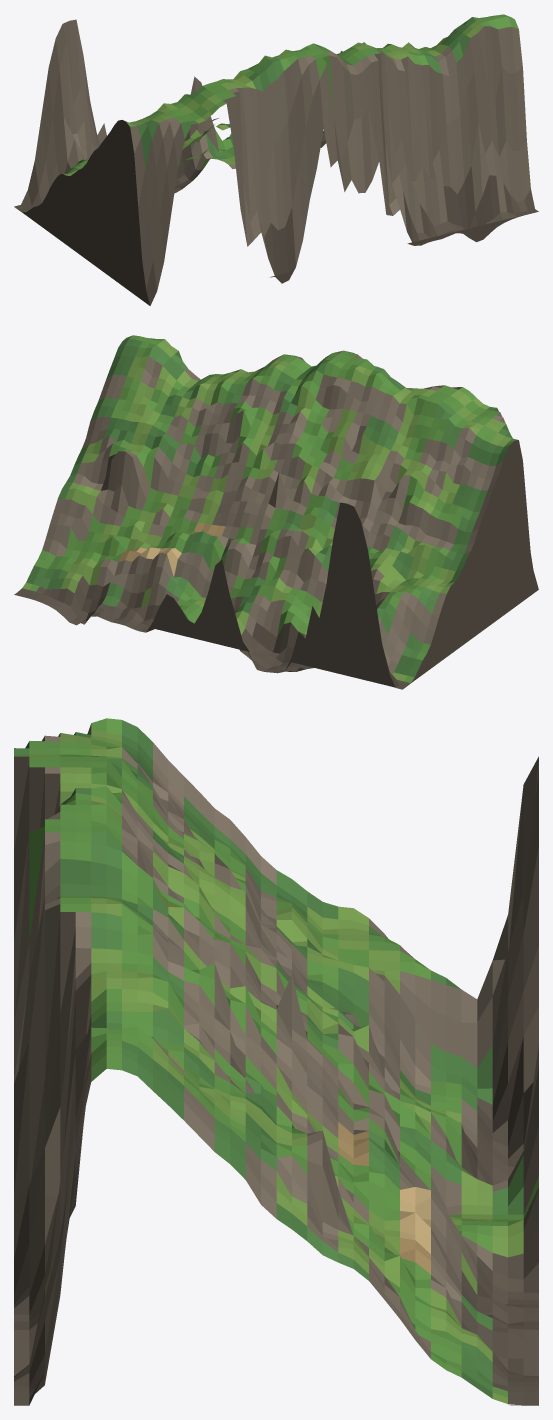
The model's file is friendship-pass-toon-terrain.glb.
3 renders of one model, top to bottom at view 1: azimuth 30°, elevation 25°; view 2: azimuth 150°, elevation 25°; view 3: azimuth 270°, elevation 25°, orthographic. The views are drawn at different scales.
Parts seen in each view (by area): view 1: ToonTerrain; view 2: ToonTerrain; view 3: ToonTerrain.
Part boxes in pixels (left/top/right/bottom): ToonTerrain: left=14, top=14, right=538, bottom=305; ToonTerrain: left=14, top=335, right=538, bottom=689; ToonTerrain: left=14, top=718, right=538, bottom=1405.
Size of the model in its own units: 28 by 15.21 by 17.
